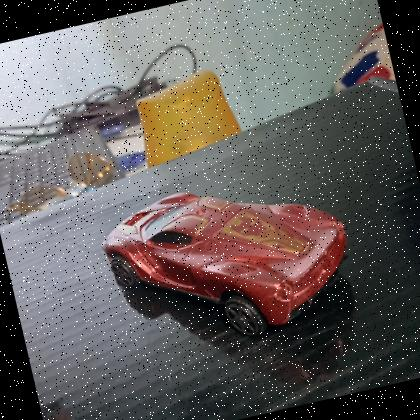Car: (88, 152, 369, 370)
